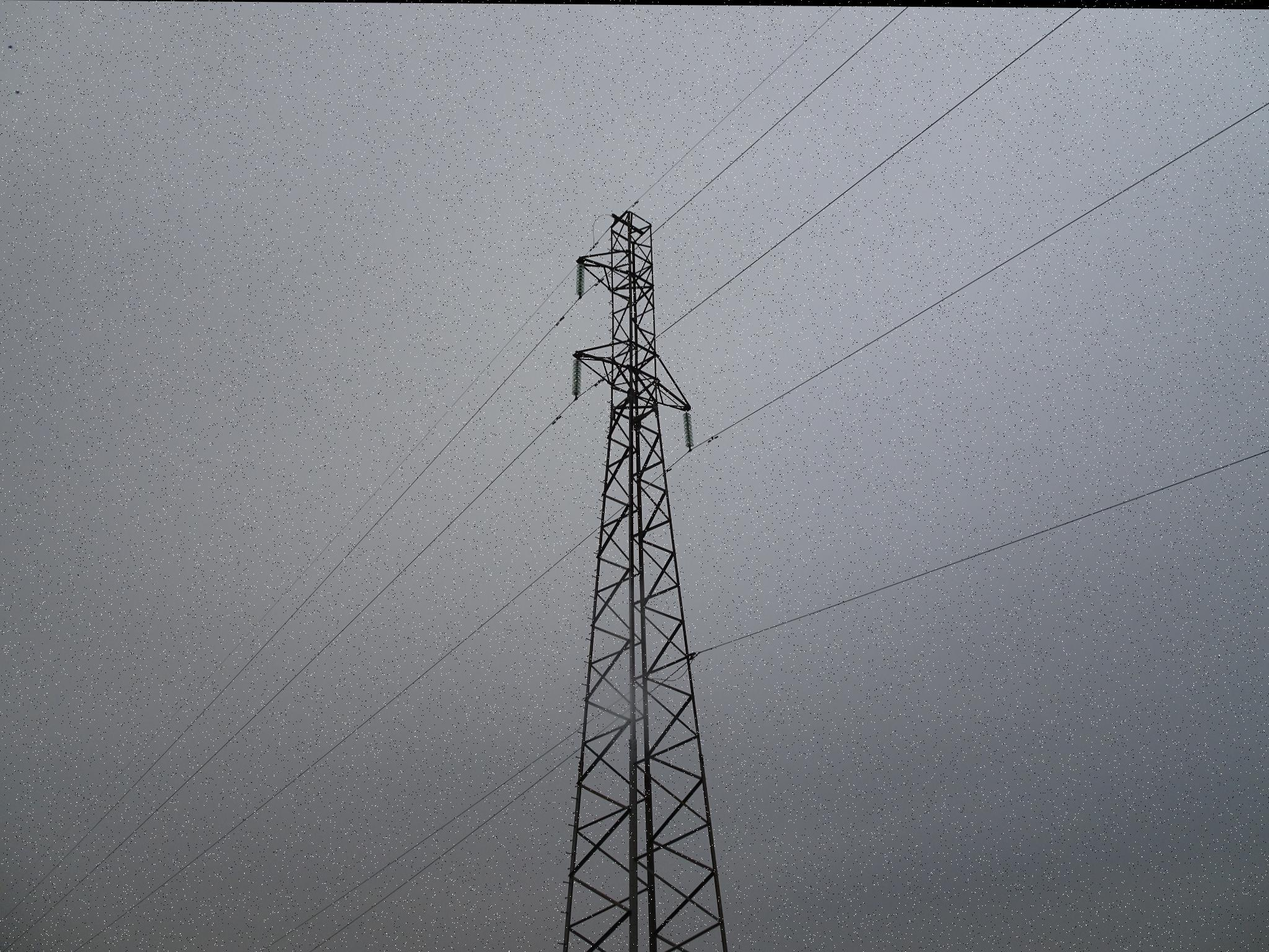tower: (546, 189, 734, 952)
